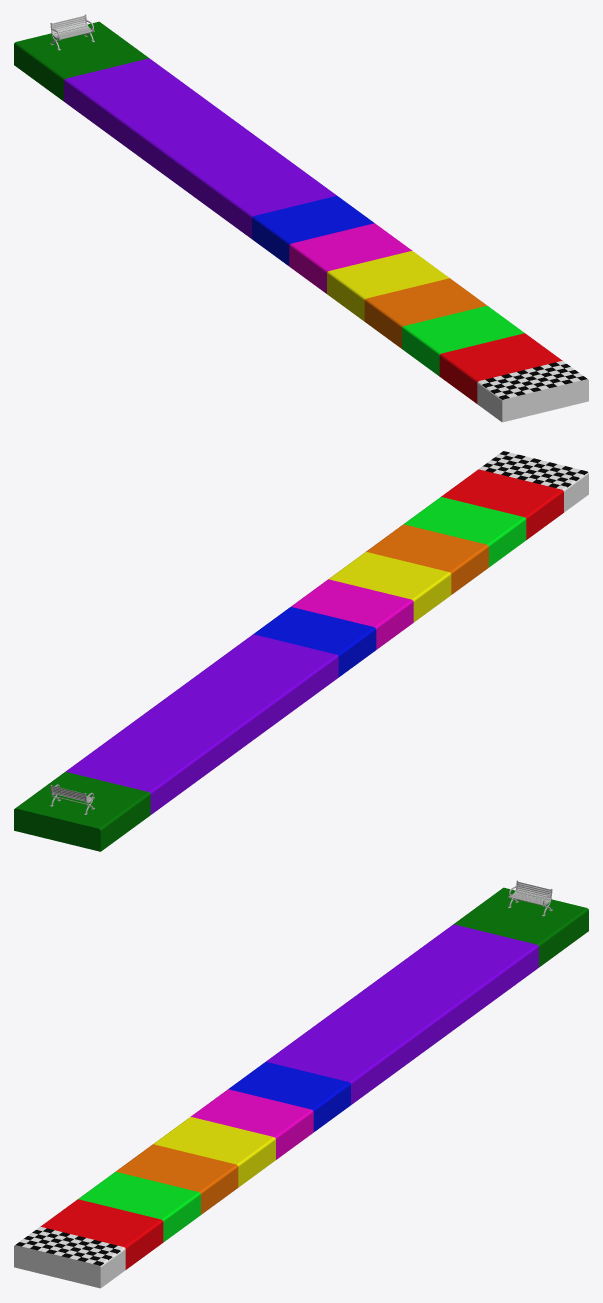
Rendered from Finish (1).fbx.
The picture shows the model from 3 angles, top to bottom: view 1: azimuth 30°, elevation 25°; view 2: azimuth 150°, elevation 25°; view 3: azimuth 330°, elevation 25°; orthographic projection.
Visible parts, largest first — view 1: Finish, Bank; view 2: Finish, Bank; view 3: Finish, Bank.
Part boxes in pixels (x1,y1,x2,y2): Finish: (14,21,588,422); Bank: (50,14,94,50); Finish: (14,451,588,851); Bank: (50,784,94,814); Finish: (14,887,588,1288); Bank: (508,880,552,916).
Bounding box in the file's own units: 4 × 1.93 × 39.
